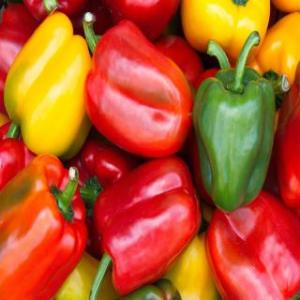bell_pepper: (79, 12, 193, 158), (90, 157, 200, 300), (195, 31, 277, 209), (4, 10, 96, 160)
